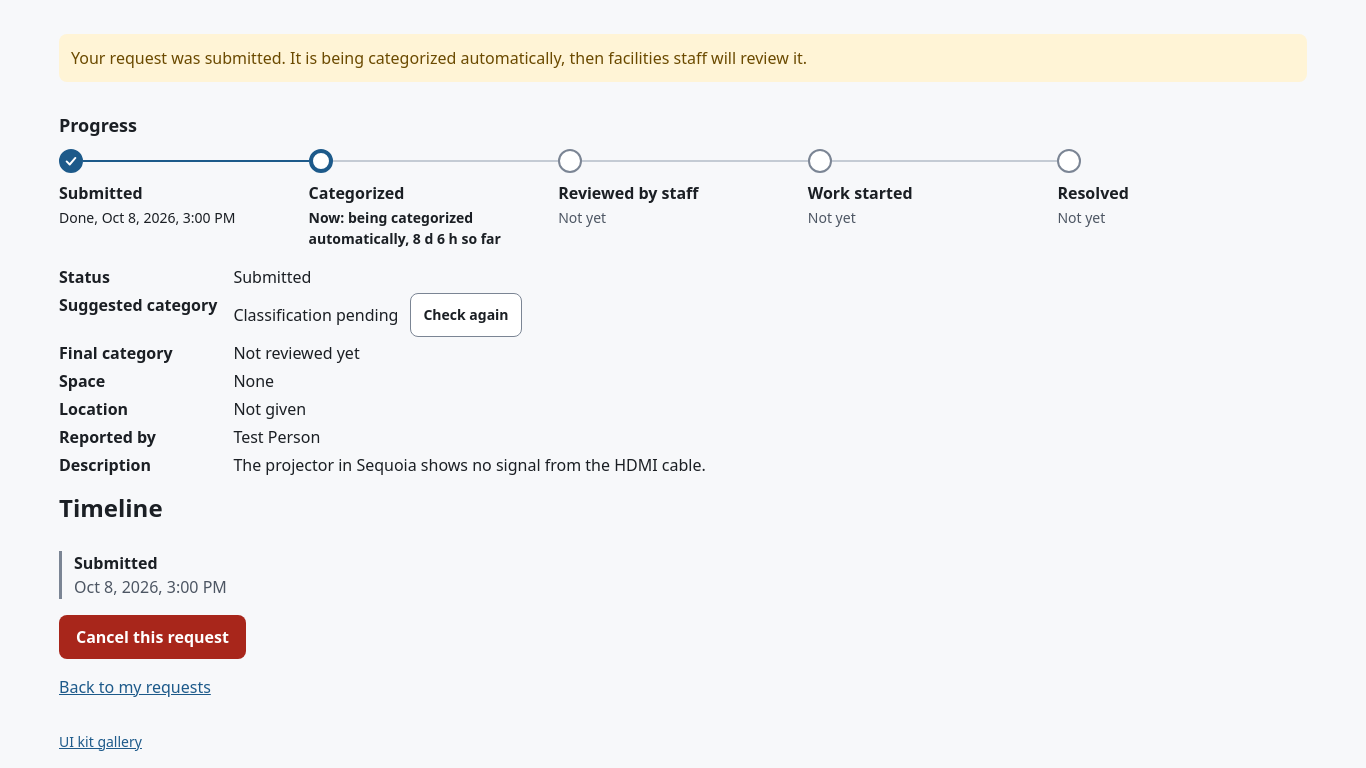
Test case: Request detail cancel (UX-07) › drops the submitted notice once the new request is cancelled
The width and height of the screenshot is (1366, 768).
(page scrolled)
Check: the text "Your request was submitted" is shown, box left=71, top=47, right=807, bottom=69
Click the button "Cancel this request": x=152, y=636 left=59, top=614, right=246, bottom=658
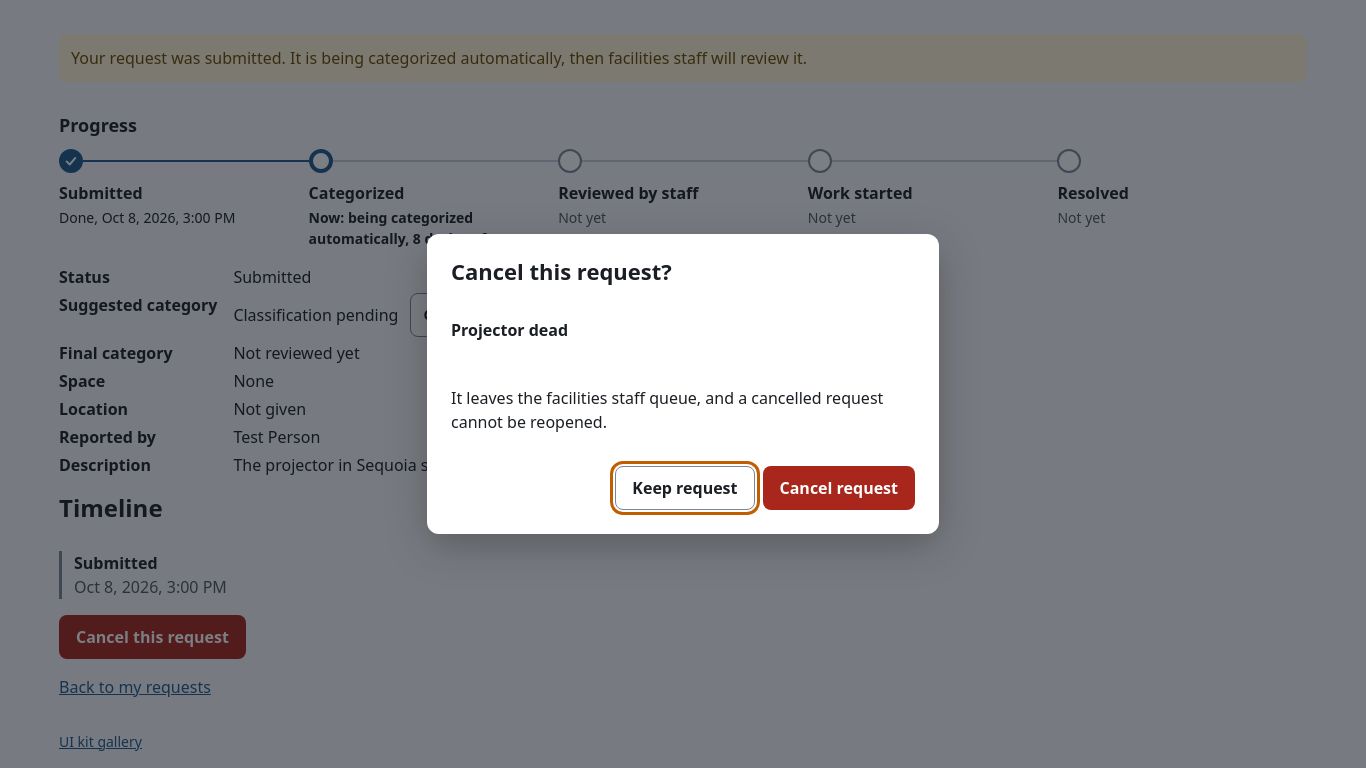
Click the button "Cancel request": x=839, y=488 left=762, top=466, right=915, bottom=510
(page scrolled)
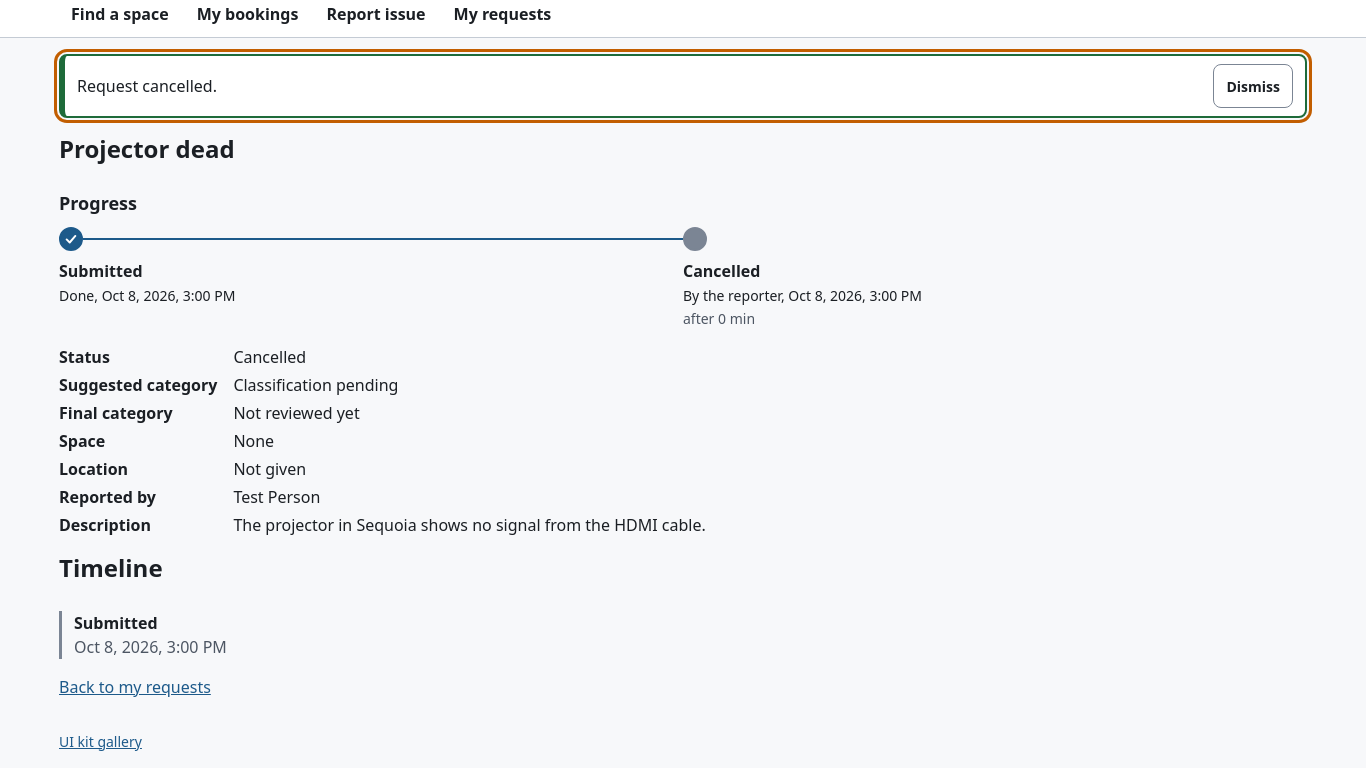
Check: the 1st text "Cancelled" is shown, box left=683, top=260, right=760, bottom=282
Check: the text "Your request was submitted" is gone
Check: the element with test id "status-banner" shows "Request cancelled.", box left=77, top=75, right=217, bottom=97
